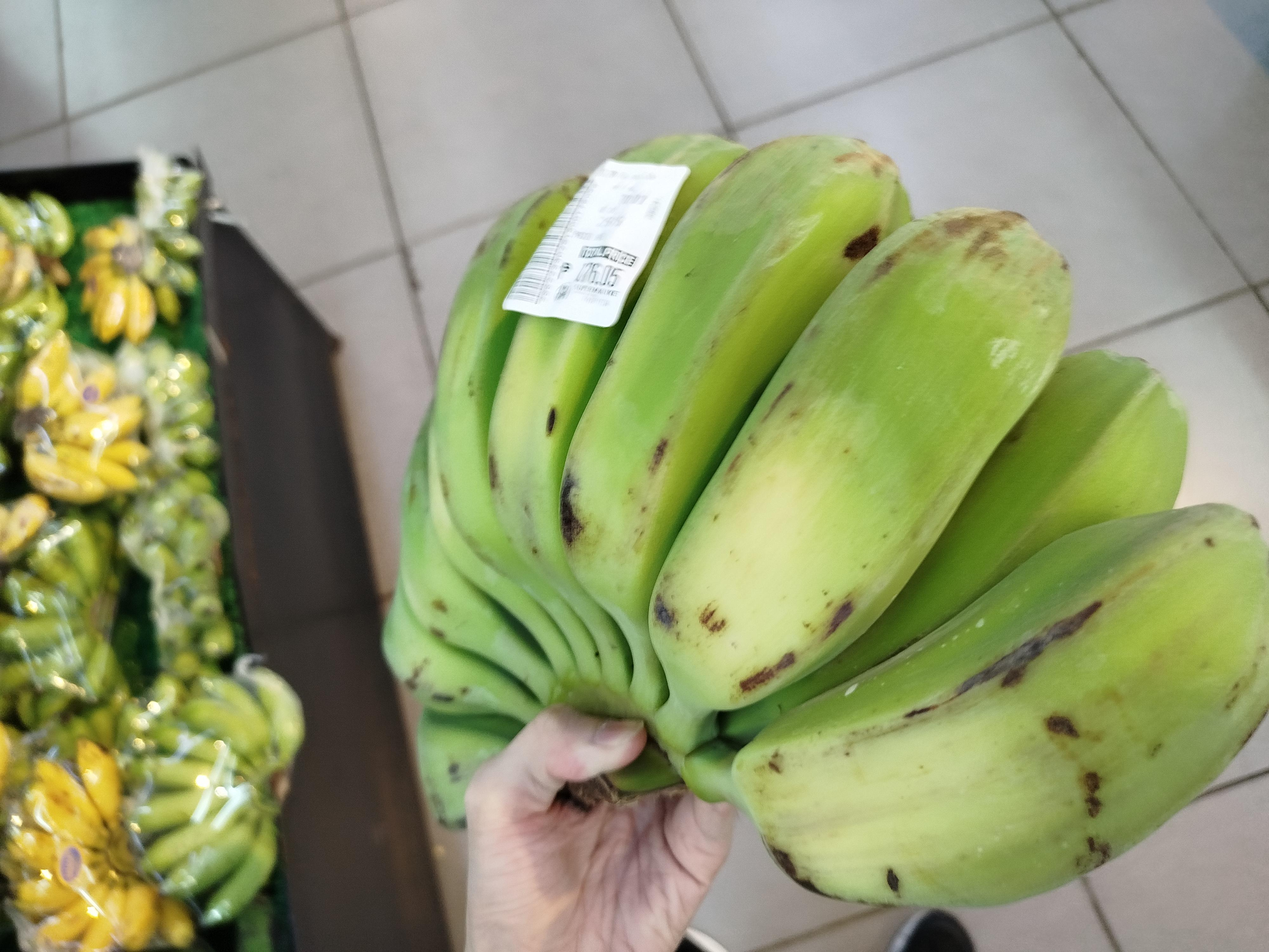underripe: (384, 136, 1269, 907)
